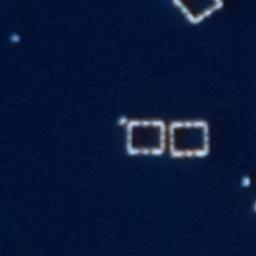square_solid: (166, 117, 214, 160), (122, 116, 169, 158), (171, 1, 224, 26)
